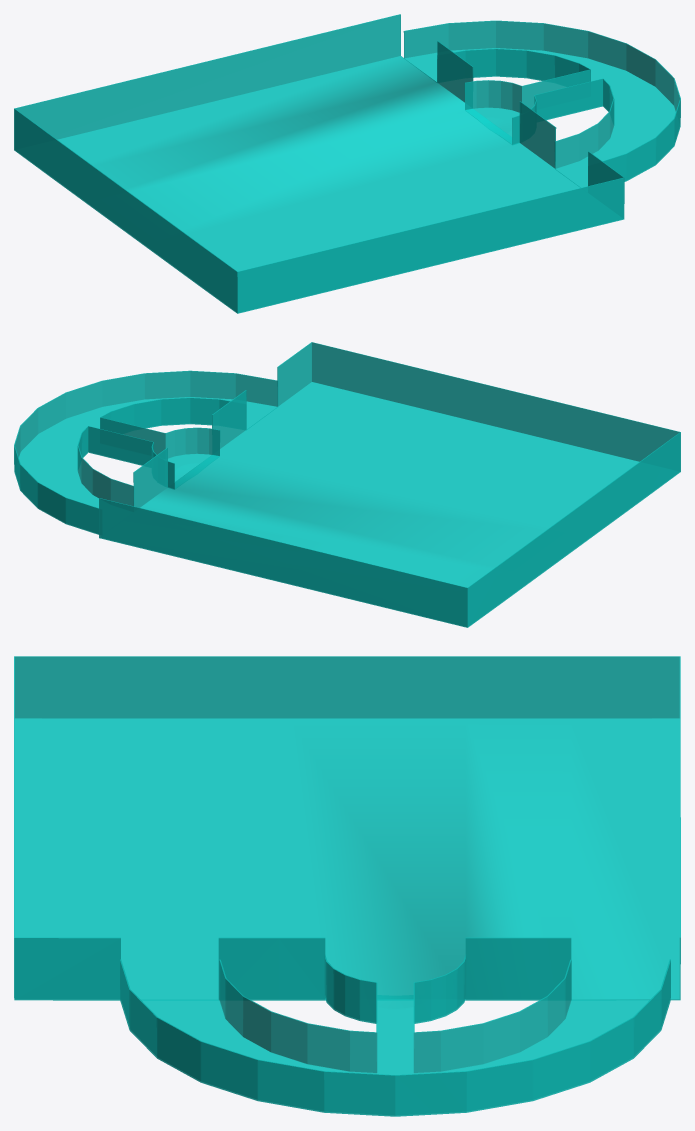
File: collision_map_proto_ground_a.FBX
3 renders of one model, top to bottom at view 1: azimuth 30°, elevation 25°; view 2: azimuth 150°, elevation 25°; view 3: azimuth 270°, elevation 25°, orthographic. The views are drawn at different scales.
Visible parts, largest first — view 1: gameplay_collision_ground_1; view 2: gameplay_collision_ground_1; view 3: gameplay_collision_ground_1.
Boxes of the visible parts, left/top/right/bottom form: gameplay_collision_ground_1: left=14, top=14, right=680, bottom=313; gameplay_collision_ground_1: left=14, top=342, right=680, bottom=627; gameplay_collision_ground_1: left=14, top=656, right=680, bottom=1116.
Bounding box in the file's own units: 70.84 × 5.37 × 50.17.
